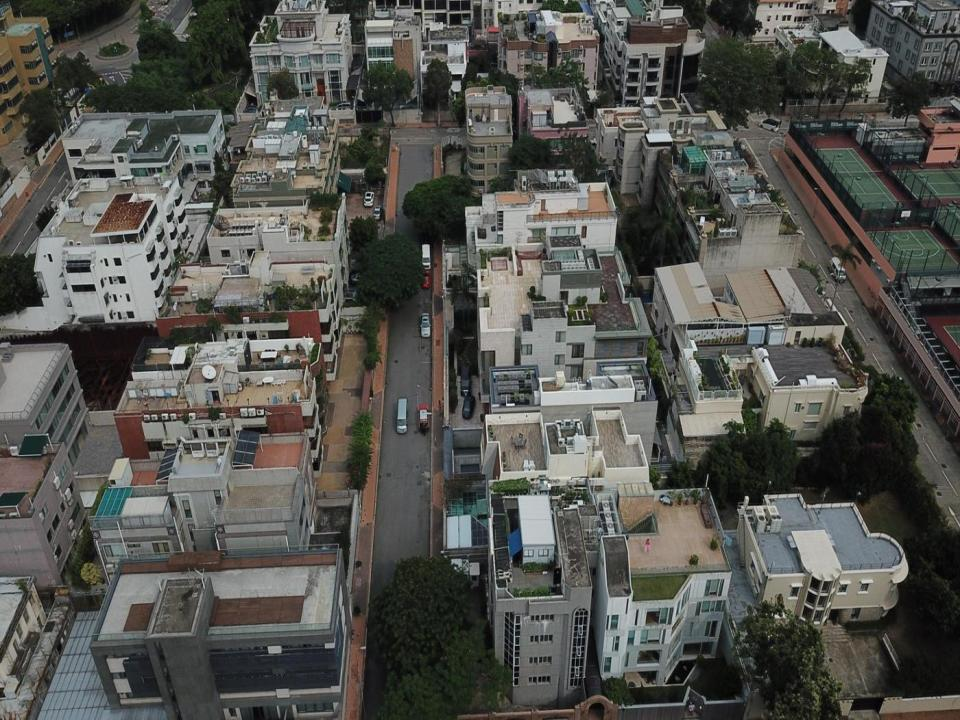car: (418, 404, 430, 430), (420, 313, 430, 338), (422, 270, 430, 287), (373, 206, 383, 218)
truck: (396, 398, 408, 433), (422, 242, 432, 269)
van: (828, 256, 846, 282), (759, 119, 778, 132), (363, 192, 374, 206)
